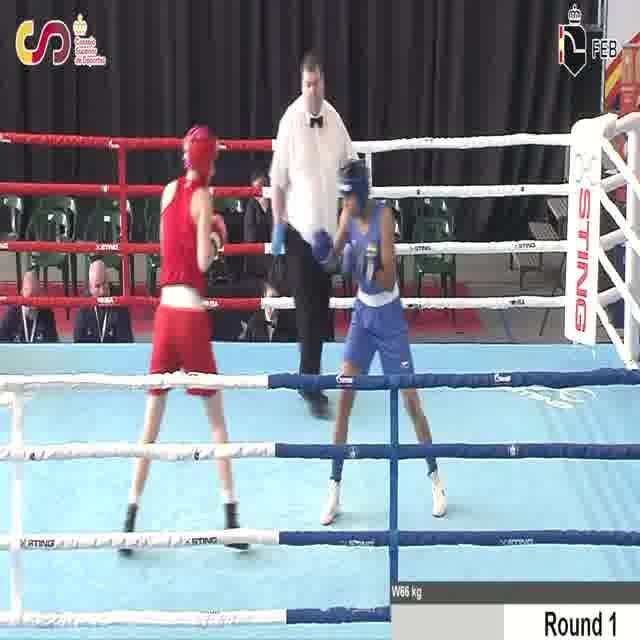blue-player: (310, 156, 453, 530)
red-player: (114, 123, 250, 554)
referee: (265, 48, 365, 420)
